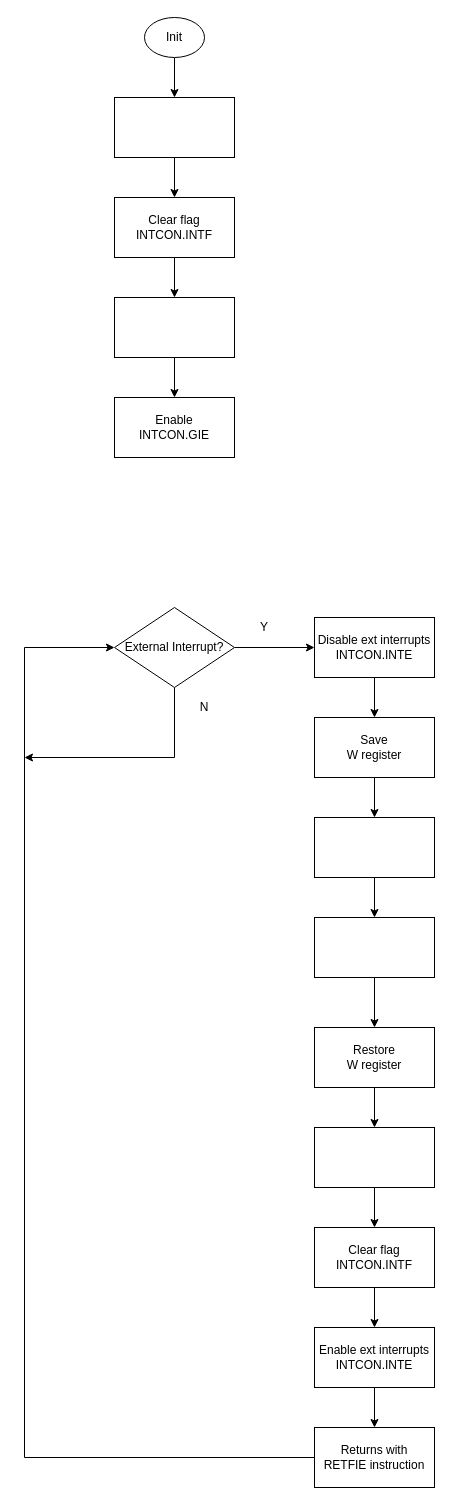
This 452x1505 diagram has some shape labels left out. Each missing label, with the centre of its shape:
"Restore STATUS register" goes at [374,1157].
"Save callback function address at 0004h address" goes at [374,947].
"Save STATUS register" goes at [374,847].
"Set edge trigger OPTION.INTEDG" goes at [174,127].
"Set flag INTCON.INTE to enable ext interrupts" goes at [174,327].
